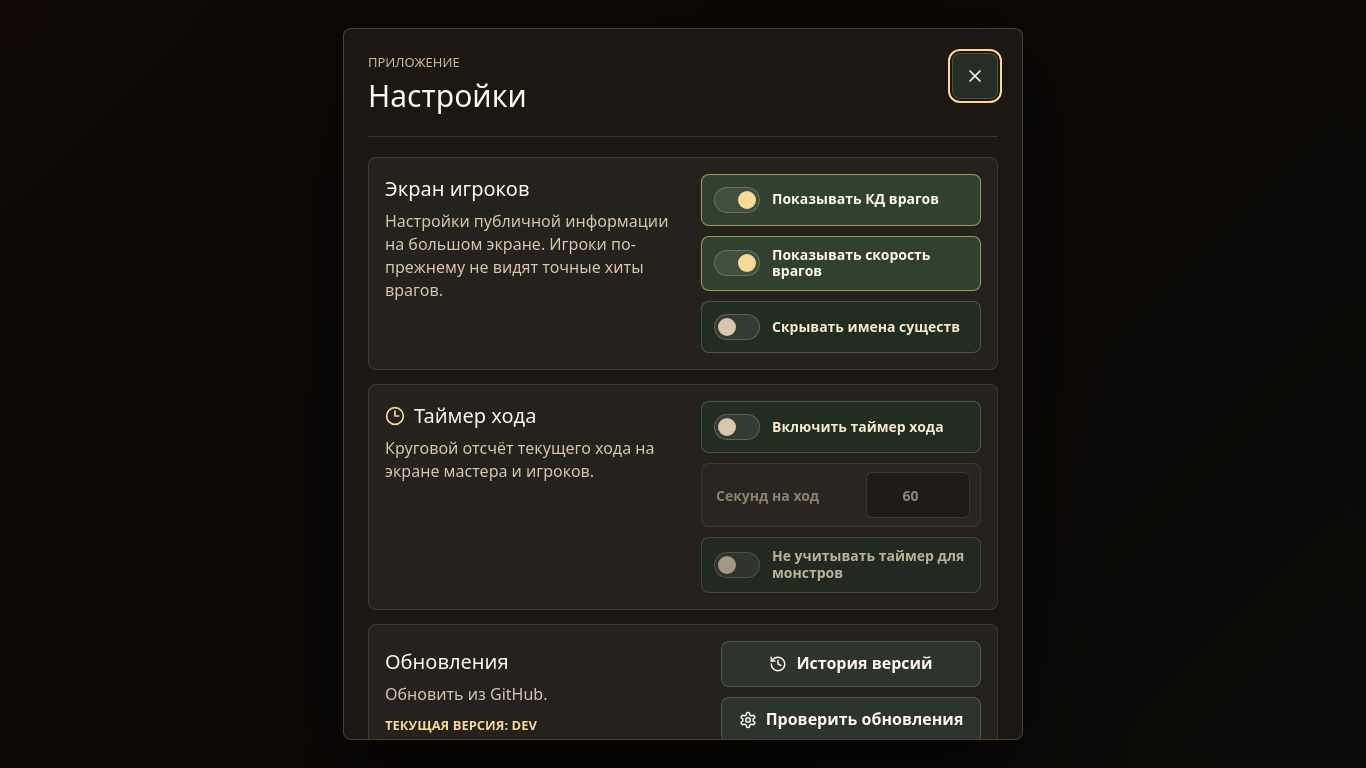
Test case: SettingsModal turn timer settings › opens release history from the update settings
Click the button "История версий". click: (851, 664)
box: [721, 641, 981, 687]
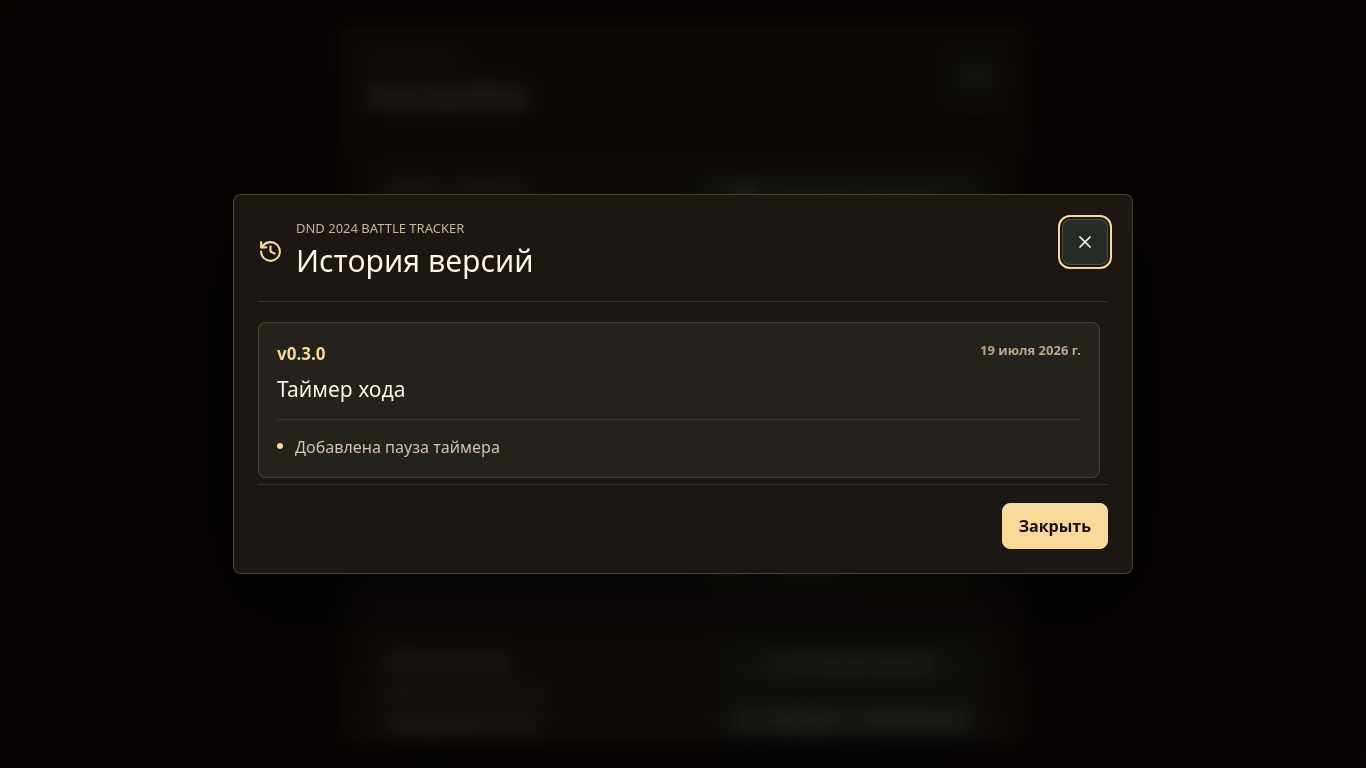
Check: the heading "Таймер хода" is shown, box [277, 374, 406, 405]
Check: the text "Добавлена пауза таймера" is shown, box [295, 436, 500, 458]
